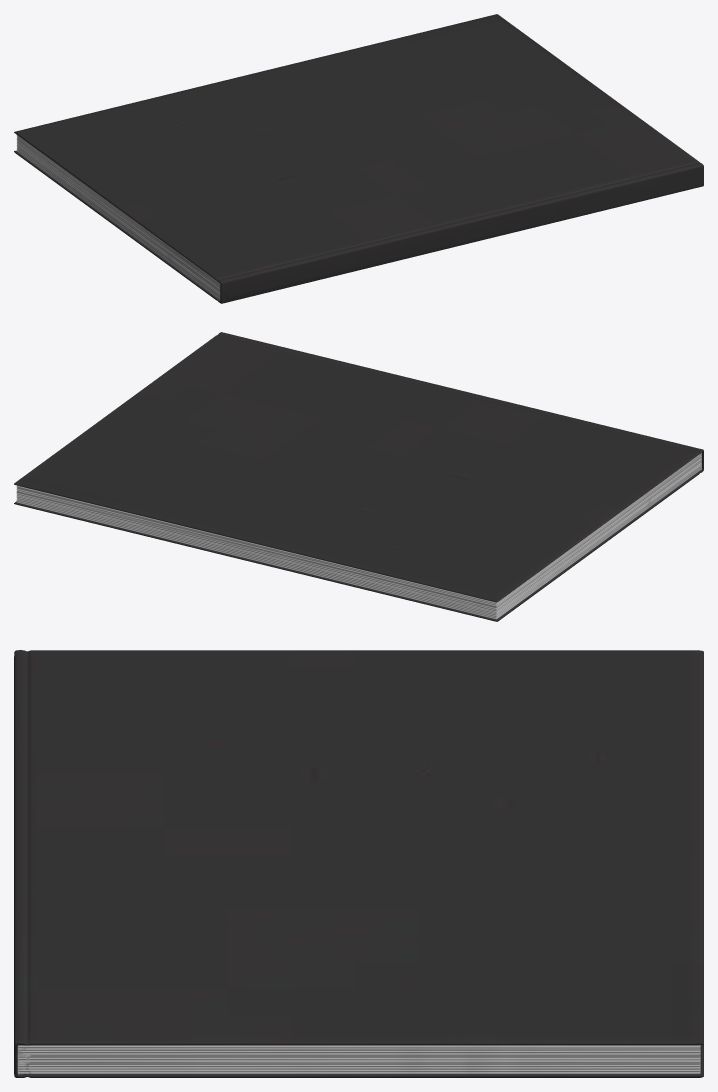
The model's file is misc_notebook_a01.glb.
3 renders of one model, top to bottom at view 1: azimuth 30°, elevation 25°; view 2: azimuth 150°, elevation 25°; view 3: azimuth 270°, elevation 25°, orthographic. The views are drawn at different scales.
Visible parts, largest first — view 1: noteBook_01_mesh_00.001; view 2: noteBook_01_mesh_00.001; view 3: noteBook_01_mesh_00.001.
Part boxes in pixels (<box>): noteBook_01_mesh_00.001: <box>14,14,703,303</box>; noteBook_01_mesh_00.001: <box>14,332,703,621</box>; noteBook_01_mesh_00.001: <box>14,650,703,1077</box>.
Size of the model in its own units: 0.2289 by 0.01 by 0.17.
Materials: 2 (2 with a texture image).
